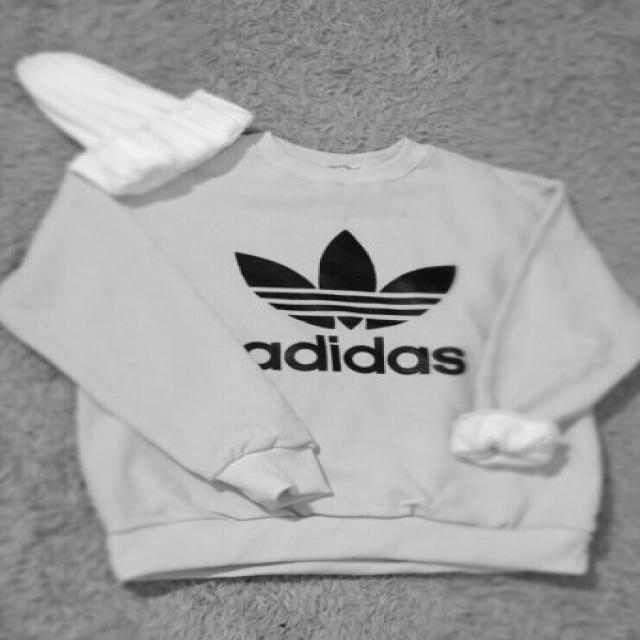Adidas: (232, 222, 478, 388)
